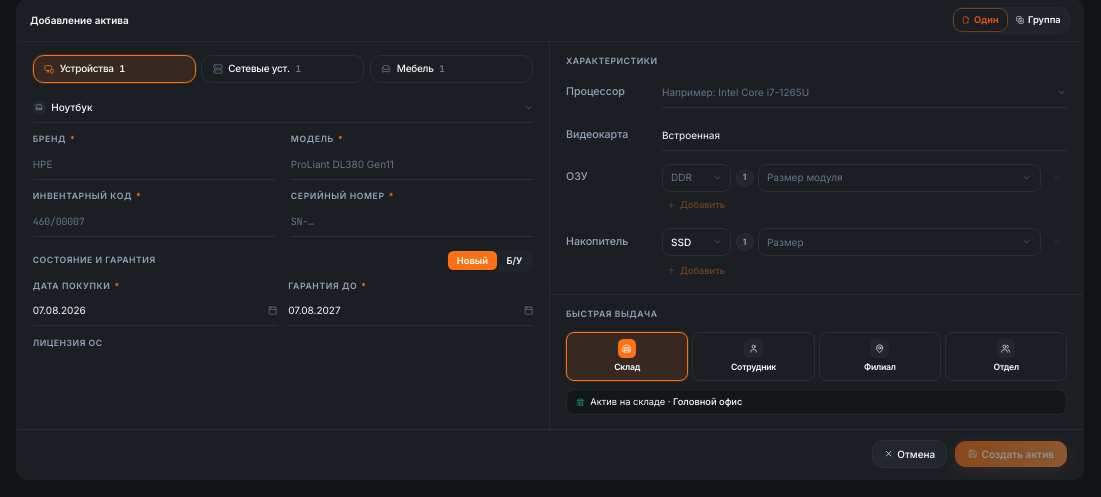
AssetCreateForm parity › network device hides Branch/Department quick-assign modes
Click the tab "Сетевые уст. 1". click: (283, 69)
box: [201,55,364,83]
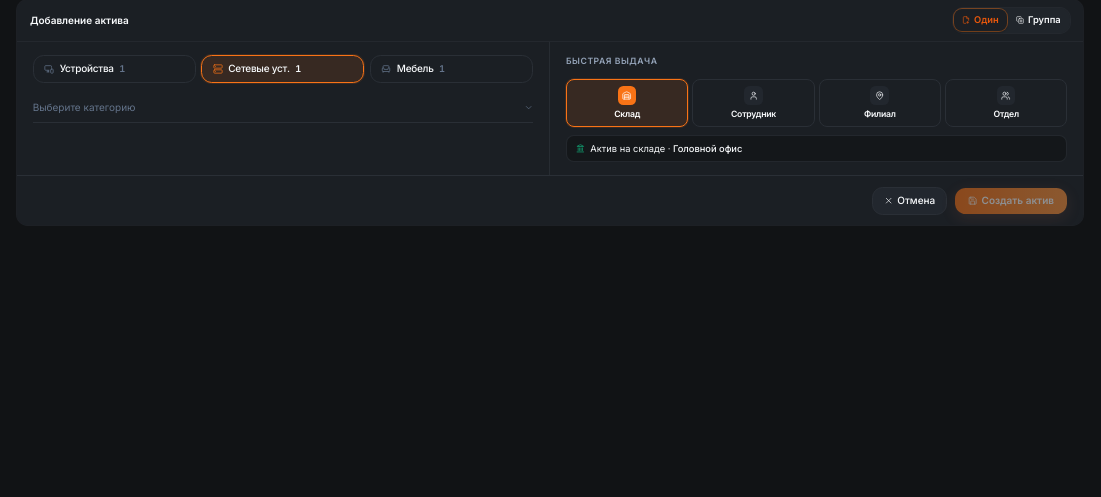
Click the dropdown named "Категория". click: (84, 107)
box: [33,93,533,123]
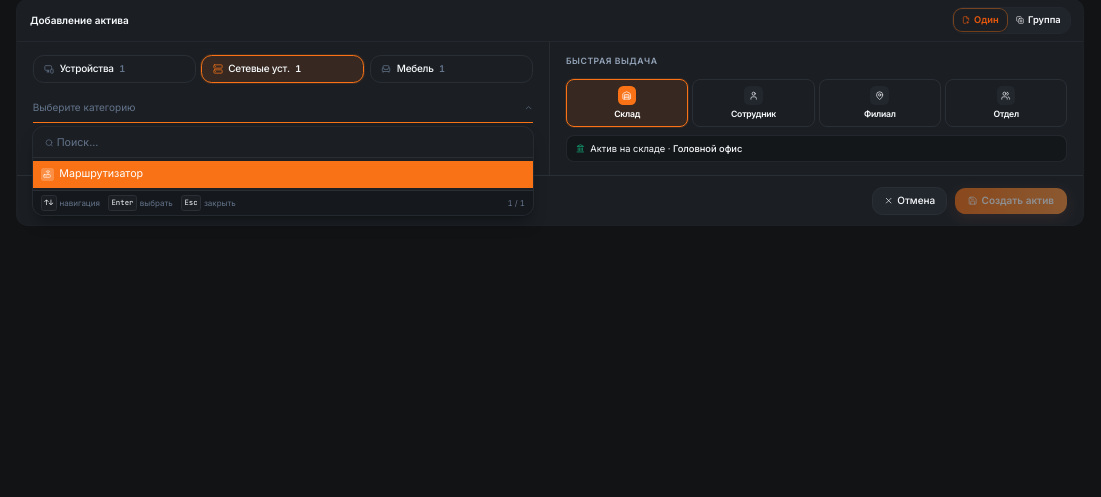
Click the option "Маршрутизатор". click: (101, 174)
box: [33,161,533,188]
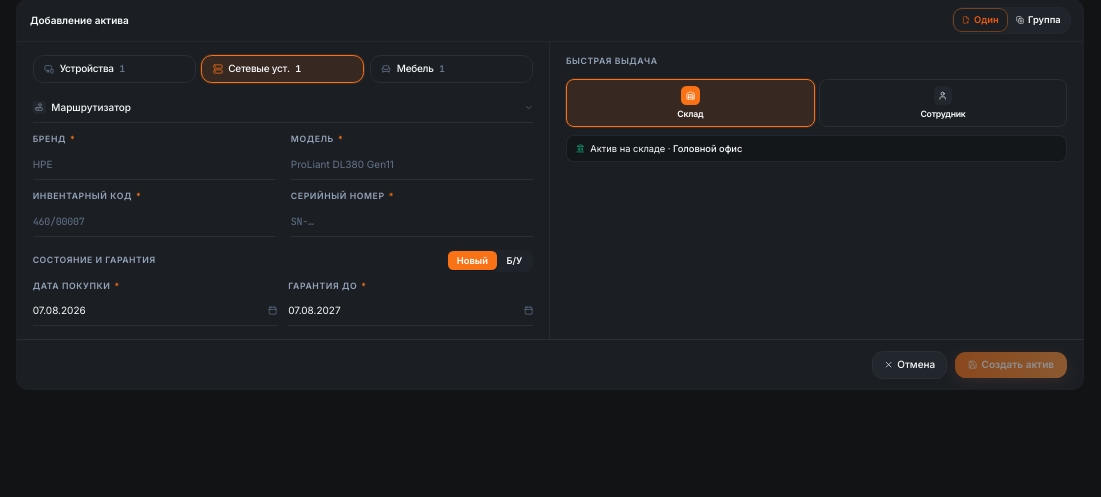
Now the field with placeholder "HPE" is shown, box [33,150,275,180]
Now the button "Филиал" is gone
Now the button "Отдел" is gone
